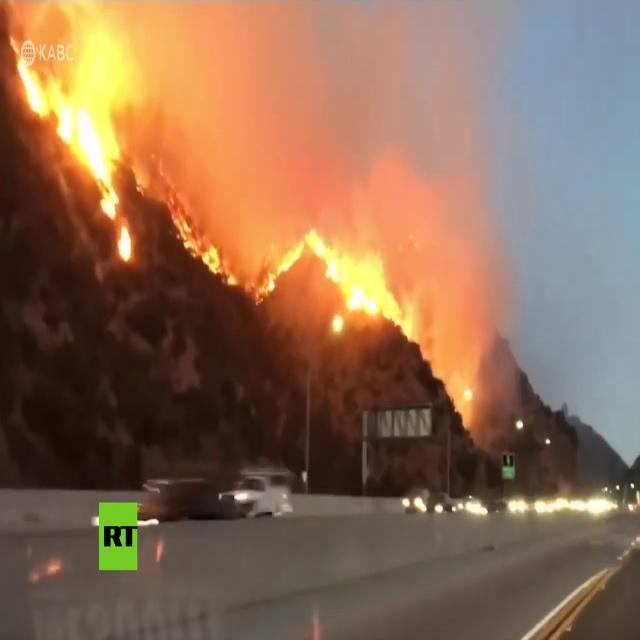Fire: (16, 10, 122, 218), (306, 222, 418, 342), (172, 210, 240, 288), (256, 240, 304, 300), (118, 226, 132, 260)
